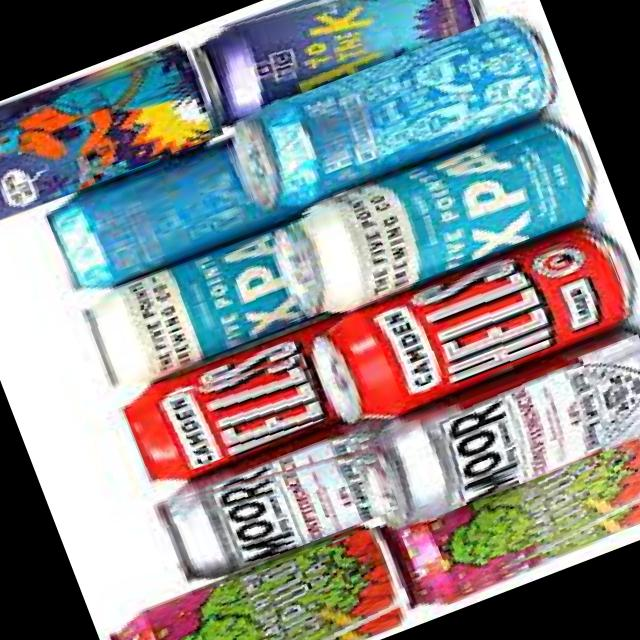Cans: (318, 223, 635, 422), (247, 10, 562, 206), (283, 118, 588, 318), (374, 332, 640, 517), (399, 426, 640, 608), (0, 38, 223, 234), (152, 422, 399, 589), (114, 523, 418, 640), (80, 236, 306, 392), (46, 140, 264, 294), (202, 0, 480, 118), (124, 340, 331, 484)
